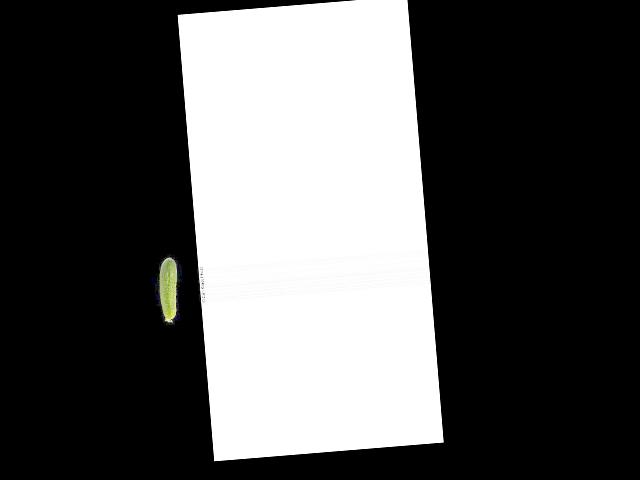cucumber: (157, 256, 181, 322)
